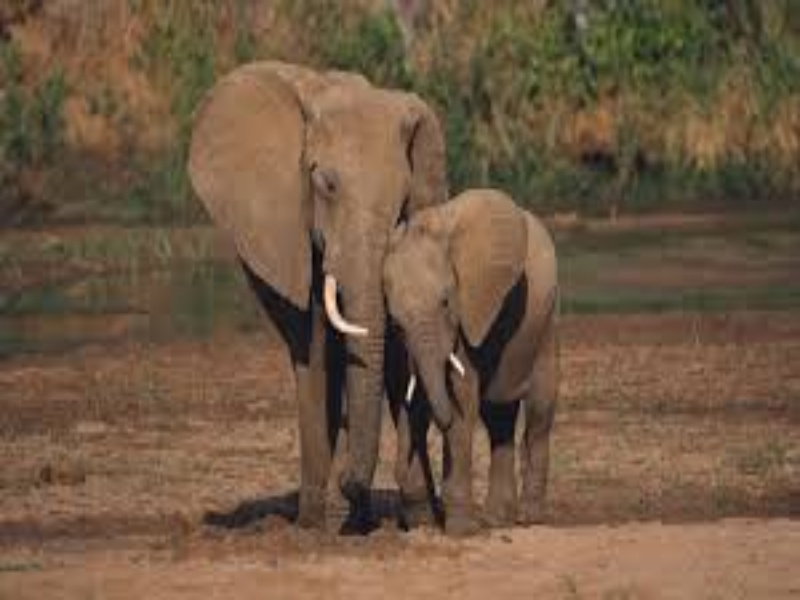elephant: (178, 59, 590, 541)
